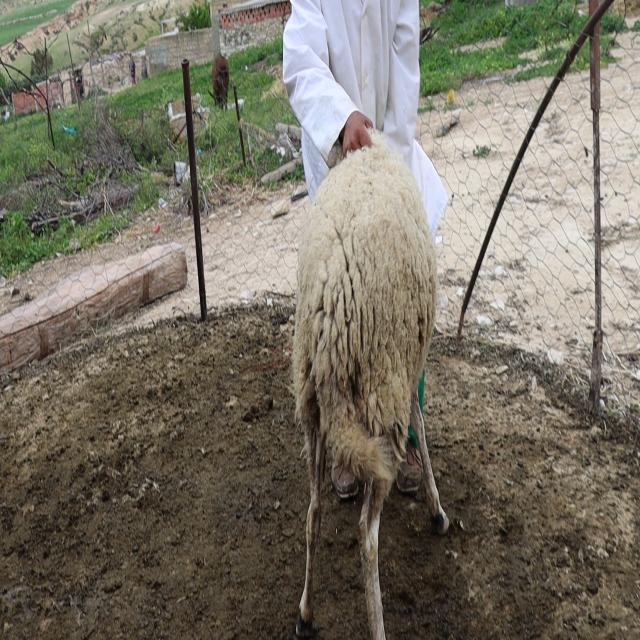Score_3: (292, 130, 449, 639)
